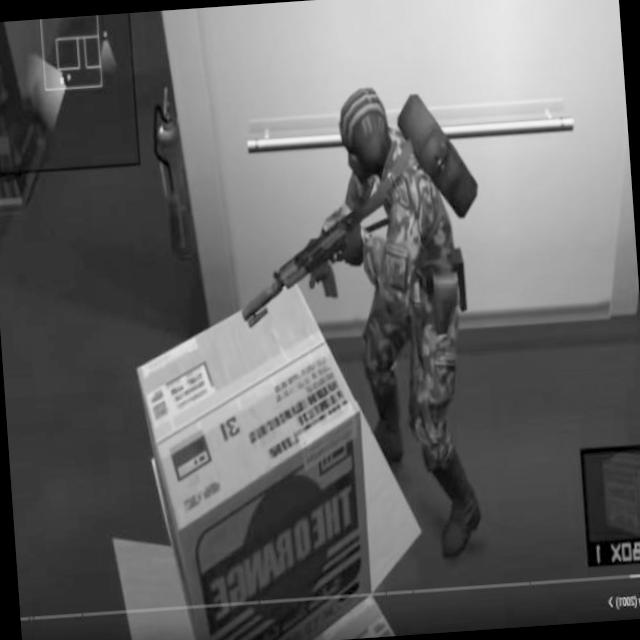snake-in-cardboard-boxes: (95, 269, 432, 640)
